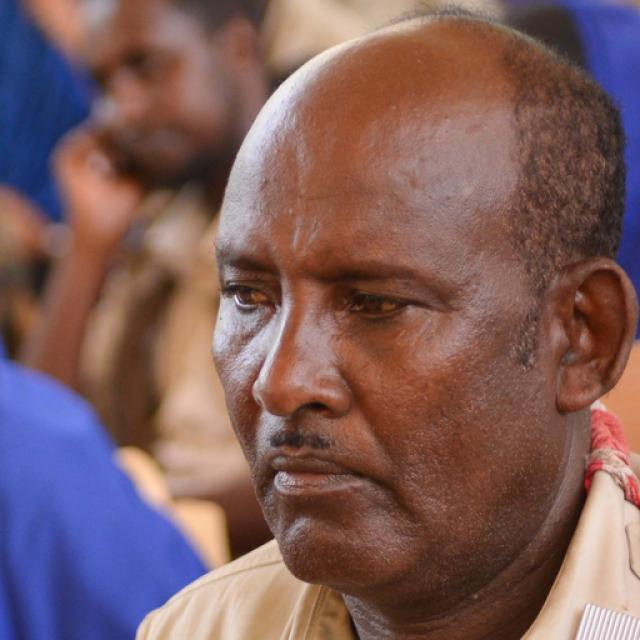anger: (209, 78, 555, 582)
